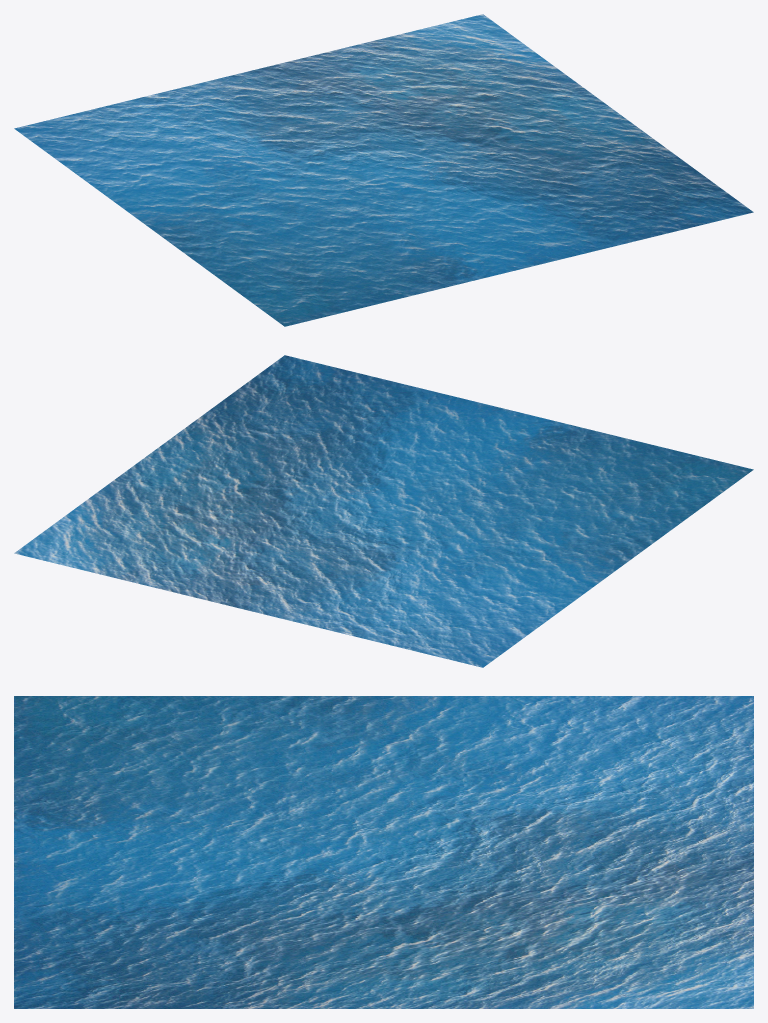
File: water.obj
The picture shows the model from 3 angles, top to bottom: view 1: azimuth 30°, elevation 25°; view 2: azimuth 150°, elevation 25°; view 3: azimuth 270°, elevation 25°; orthographic projection. The views are drawn at different scales.
Parts seen in each view (by area): view 1: Plane001; view 2: Plane001; view 3: Plane001.
Boxes of the visible parts, bbox=[...] form: Plane001: bbox=[14, 14, 753, 326]; Plane001: bbox=[14, 355, 753, 667]; Plane001: bbox=[14, 696, 753, 1008].
Bounding box in the file's own units: 14 × 0 × 14.
1 material, 1 textured.
